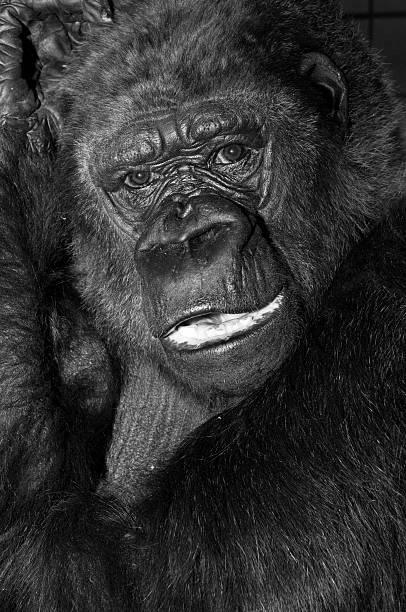gorille_Autres: (15, 0, 401, 612)
